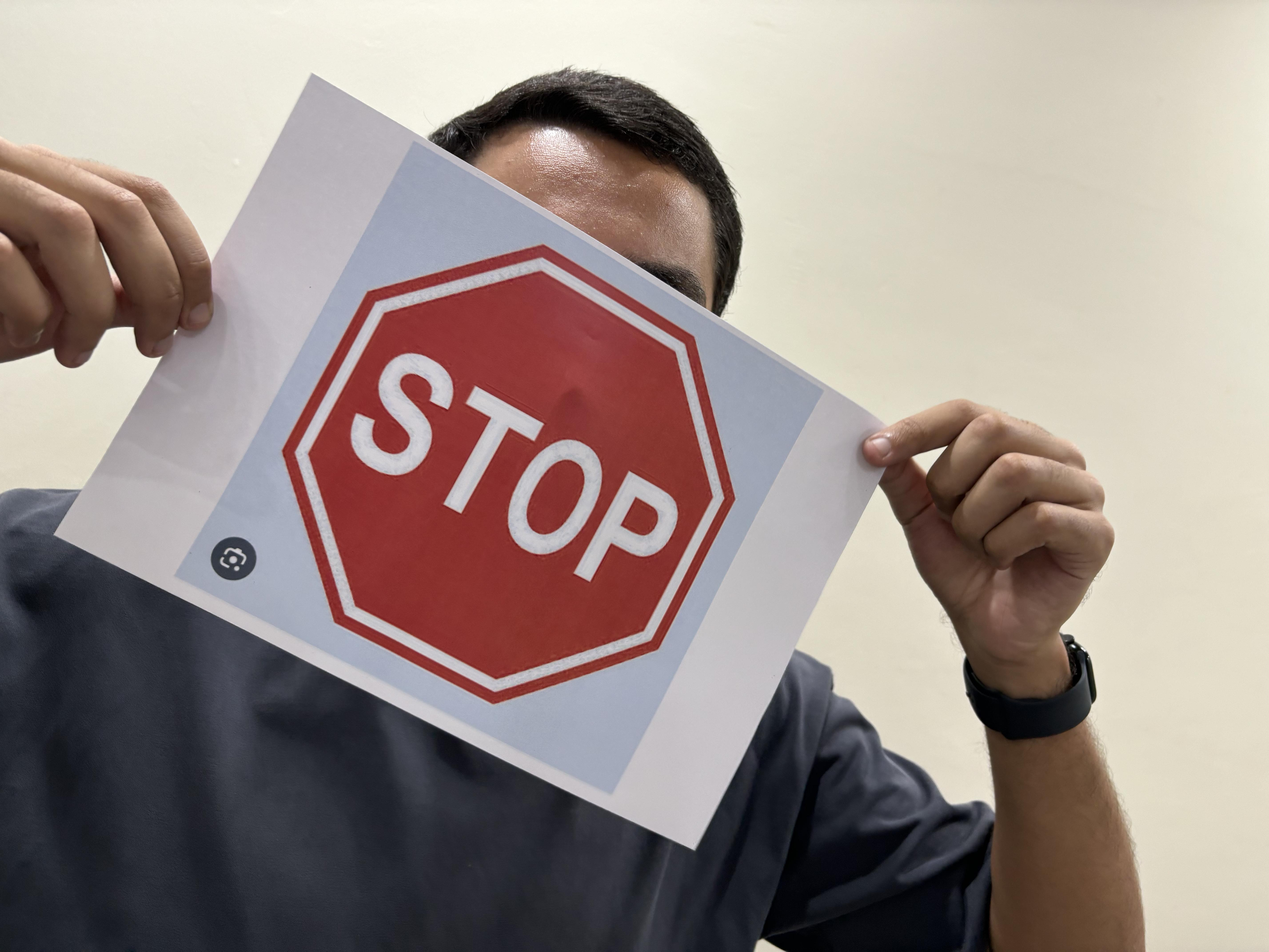Stop: (281, 245, 736, 711)
